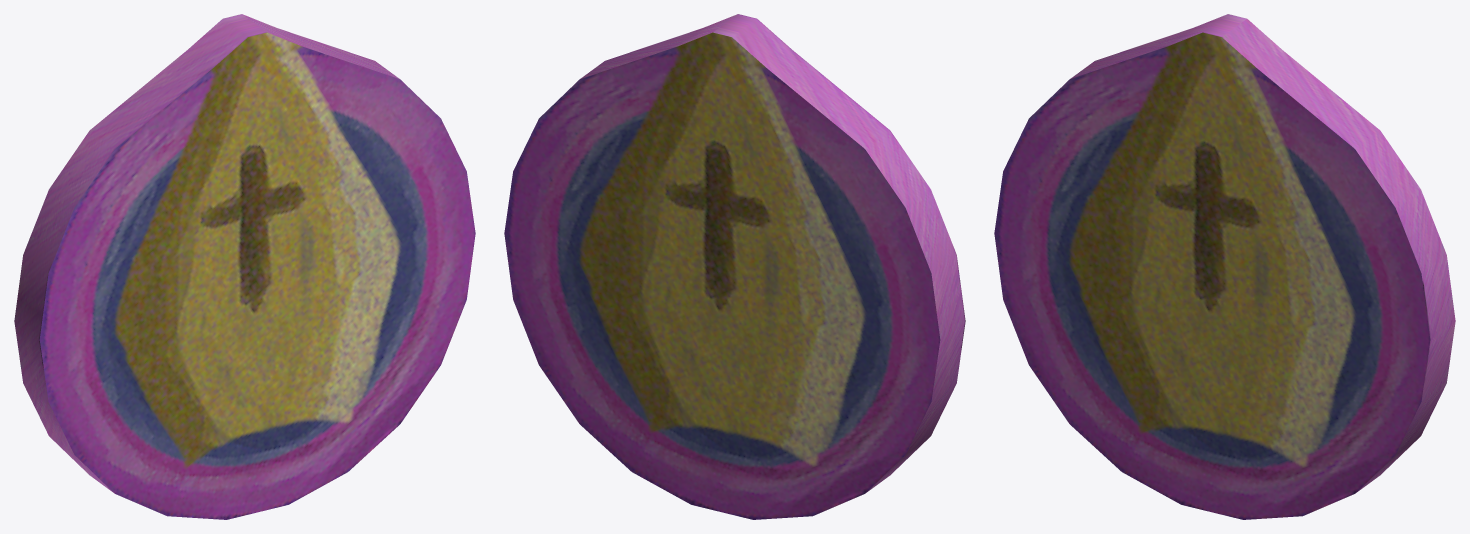
Rendered from missal.FBX.
The picture shows the model from 3 angles, left to right: view 1: azimuth 30°, elevation 25°; view 2: azimuth 150°, elevation 25°; view 3: azimuth 330°, elevation 25°; orthographic projection.
Visible parts, largest first — view 1: Cylinder001; view 2: Cylinder001; view 3: Cylinder001.
Boxes of the visible parts, <box> form: Cylinder001: <box>14,14,475,519</box>; Cylinder001: <box>504,14,965,519</box>; Cylinder001: <box>994,14,1455,519</box>.
Bounding box in the file's own units: 0.9795 × 1.03 × 0.0986.
1 material, 1 textured.
